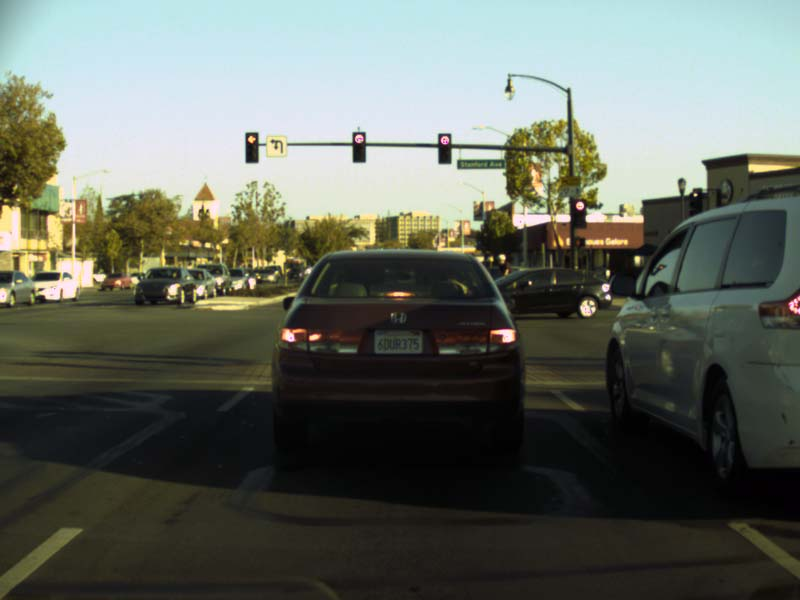Red: (244, 132, 258, 162), (571, 199, 586, 227), (352, 132, 365, 162), (438, 133, 450, 163)
